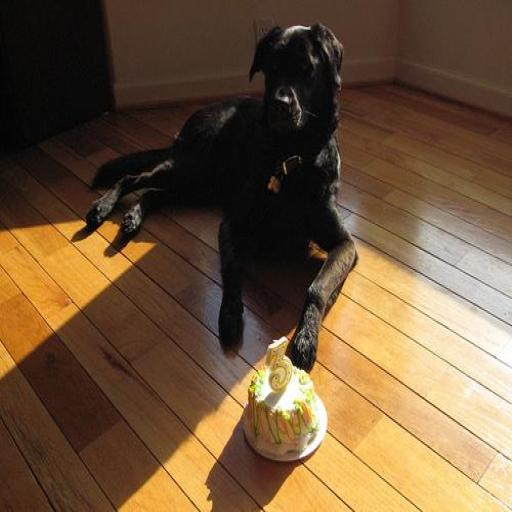dog_face: (252, 20, 349, 137)
